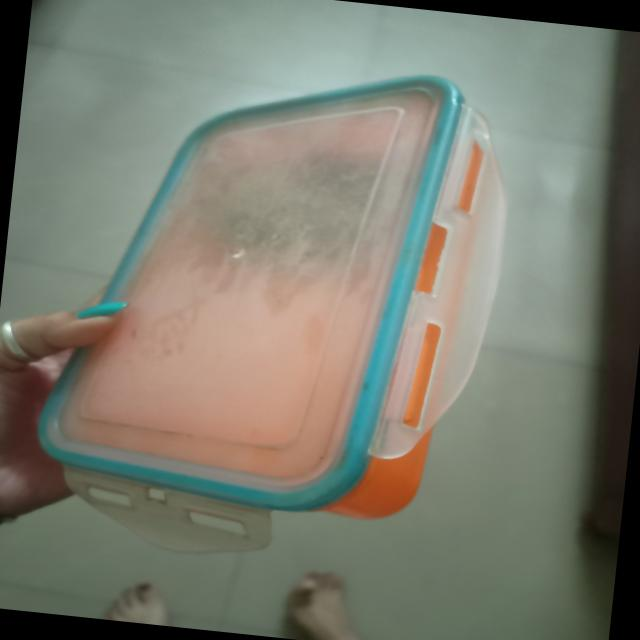plastic_box: (49, 43, 512, 560)
